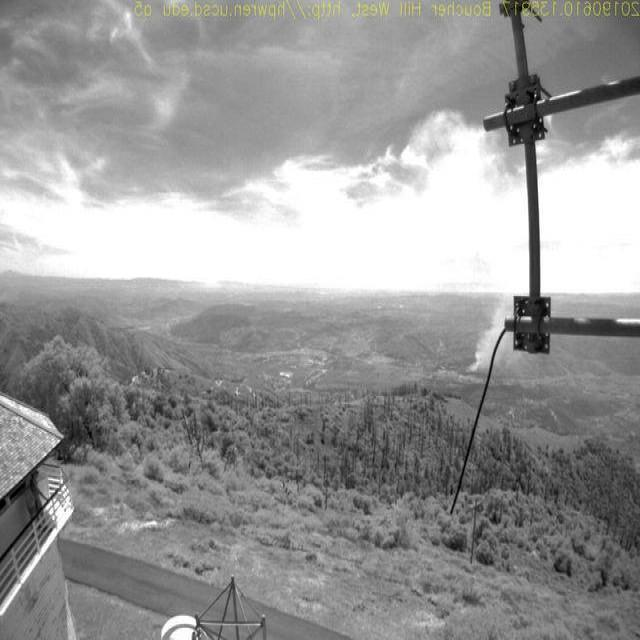Smoke: (470, 290, 511, 376)
